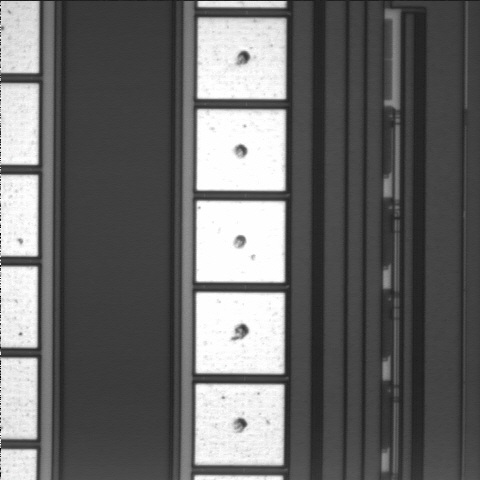pad: (196, 109, 286, 191), (196, 292, 285, 374), (197, 18, 286, 99), (196, 201, 285, 282), (195, 384, 284, 465)
